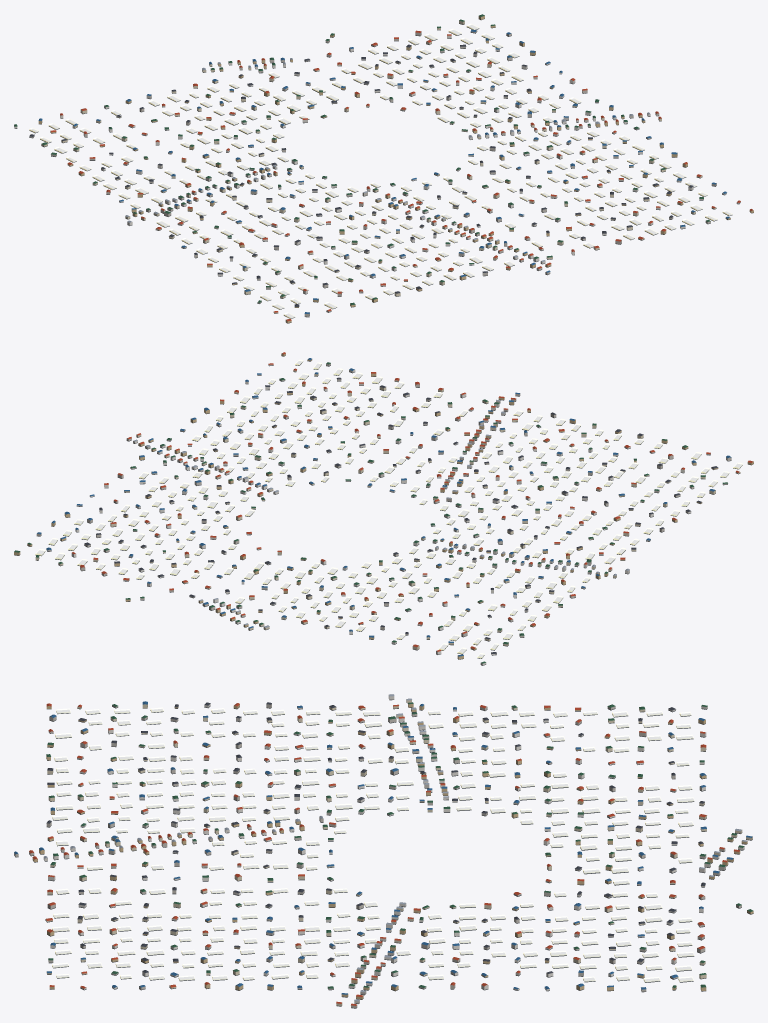
The model's file is buildings_T_W05_N03.glb.
The picture shows the model from 3 angles, top to bottom: view 1: azimuth 30°, elevation 25°; view 2: azimuth 150°, elevation 25°; view 3: azimuth 270°, elevation 25°; orthographic projection. The views are drawn at different scales.
Visible parts, largest first — view 1: T_W05_N03_roofs_agri_greenhouse_arch, T_W05_N03_slope_seating_foundations, T_W05_N03_walls_wall_modern_warm_white, T_W05_N03_walls_wall_french_ochre_villa, T_W05_N03_walls_wall_dalat_cream_stucco, T_W05_N03_roofs_roof_terracotta_gable, T_W05_N03_walls_wall_pastel_sand_gray, T_W05_N03_roofs_roof_highland_blue_gable, T_W05_N03_roofs_roof_pine_green_hip, T_W05_N03_roofs_roof_slate_French_villa_hip; view 2: T_W05_N03_roofs_agri_greenhouse_arch, T_W05_N03_slope_seating_foundations, T_W05_N03_walls_wall_modern_warm_white, T_W05_N03_walls_wall_french_ochre_villa, T_W05_N03_walls_wall_dalat_cream_stucco, T_W05_N03_walls_wall_pastel_sand_gray, T_W05_N03_roofs_roof_terracotta_gable, T_W05_N03_roofs_roof_highland_blue_gable, T_W05_N03_roofs_roof_pine_green_hip, T_W05_N03_roofs_roof_slate_French_villa_hip; view 3: T_W05_N03_roofs_agri_greenhouse_arch, T_W05_N03_slope_seating_foundations, T_W05_N03_walls_wall_modern_warm_white, T_W05_N03_walls_wall_french_ochre_villa, T_W05_N03_walls_wall_dalat_cream_stucco, T_W05_N03_walls_wall_pastel_sand_gray, T_W05_N03_roofs_roof_terracotta_gable, T_W05_N03_roofs_roof_highland_blue_gable, T_W05_N03_roofs_roof_pine_green_hip, T_W05_N03_roofs_roof_slate_French_villa_hip.
Boxes of the visible parts, x1,y1,x2,y2 form: T_W05_N03_roofs_agri_greenhouse_arch: (29, 23, 732, 318); T_W05_N03_slope_seating_foundations: (14, 18, 753, 323); T_W05_N03_walls_wall_modern_warm_white: (14, 35, 740, 293); T_W05_N03_walls_wall_french_ochre_villa: (38, 16, 753, 323); T_W05_N03_walls_wall_dalat_cream_stucco: (41, 20, 716, 313); T_W05_N03_roofs_roof_terracotta_gable: (51, 30, 753, 321); T_W05_N03_walls_wall_pastel_sand_gray: (51, 30, 716, 316); T_W05_N03_roofs_roof_highland_blue_gable: (38, 29, 730, 313); T_W05_N03_roofs_roof_pine_green_hip: (14, 14, 710, 305); T_W05_N03_roofs_roof_slate_French_villa_hip: (29, 44, 693, 306); T_W05_N03_roofs_agri_greenhouse_arch: (35, 359, 742, 658); T_W05_N03_slope_seating_foundations: (14, 355, 753, 665); T_W05_N03_walls_wall_modern_warm_white: (71, 364, 691, 665); T_W05_N03_walls_wall_french_ochre_villa: (14, 353, 753, 659); T_W05_N03_walls_wall_dalat_cream_stucco: (35, 370, 740, 649); T_W05_N03_walls_wall_pastel_sand_gray: (36, 363, 731, 637); T_W05_N03_roofs_roof_terracotta_gable: (72, 352, 753, 651); T_W05_N03_roofs_roof_highland_blue_gable: (37, 358, 731, 656); T_W05_N03_roofs_roof_pine_green_hip: (14, 362, 727, 663); T_W05_N03_roofs_roof_slate_French_villa_hip: (84, 377, 718, 653); T_W05_N03_roofs_agri_greenhouse_arch: (52, 707, 694, 982); T_W05_N03_slope_seating_foundations: (14, 699, 753, 1008); T_W05_N03_walls_wall_modern_warm_white: (43, 695, 744, 1003); T_W05_N03_walls_wall_french_ochre_villa: (32, 703, 753, 999); T_W05_N03_walls_wall_dalat_cream_stucco: (45, 699, 752, 1006); T_W05_N03_walls_wall_pastel_sand_gray: (14, 704, 741, 1007); T_W05_N03_roofs_roof_terracotta_gable: (29, 703, 739, 1005); T_W05_N03_roofs_roof_highland_blue_gable: (14, 701, 752, 994); T_W05_N03_roofs_roof_pine_green_hip: (46, 702, 753, 988); T_W05_N03_roofs_roof_slate_French_villa_hip: (46, 702, 705, 973).
Bounding box in the file's own units: 1911 × 38.08 × 1953.
